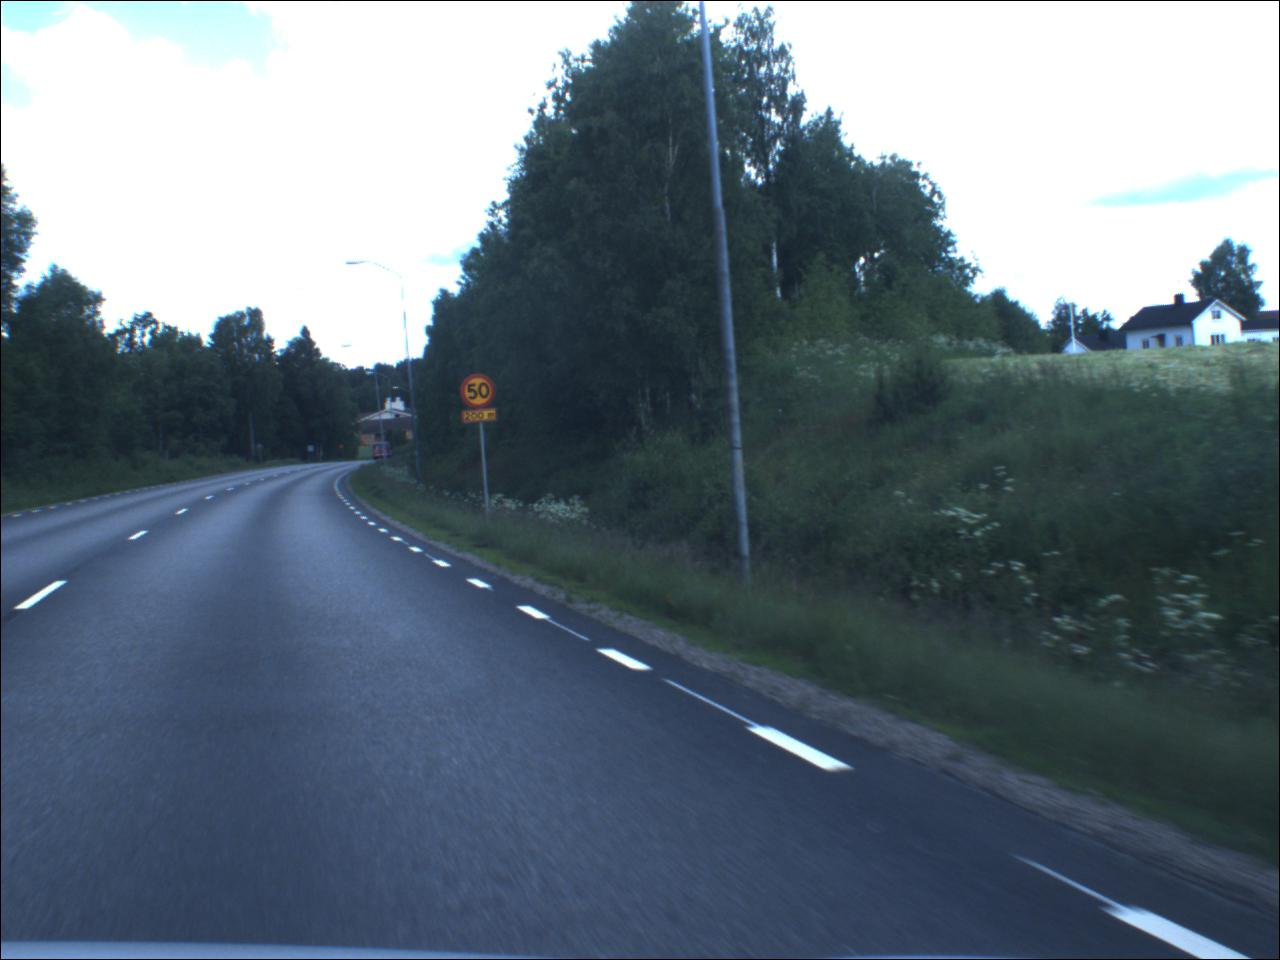50_SIGN: (462, 375, 497, 410)
